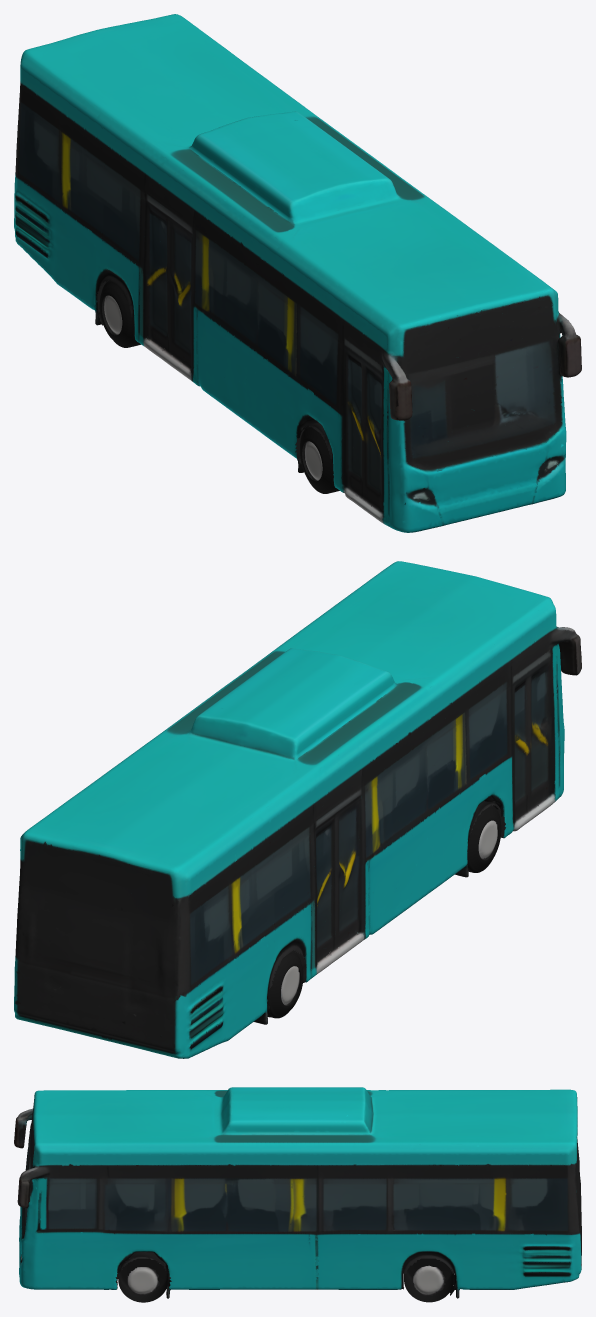
Rendered from Davie_Bus.glb.
The picture shows the model from 3 angles, top to bottom: view 1: azimuth 30°, elevation 25°; view 2: azimuth 150°, elevation 25°; view 3: azimuth 270°, elevation 25°; orthographic projection. The views are drawn at different scales.
Visible parts, largest first — view 1: world, Wheel_PR, Wheel_NR; view 2: world, Wheel_NR, Wheel_PR; view 3: world, Wheel_NL, Wheel_PL.
Part boxes in pixels (x1,y1,x2,y2): world: [14, 14, 581, 532]; Wheel_PR: [99, 280, 140, 347]; Wheel_NR: [300, 426, 339, 493]; world: [14, 561, 581, 1058]; Wheel_NR: [467, 805, 501, 872]; Wheel_PR: [268, 951, 303, 1018]; world: [14, 1087, 581, 1298]; Wheel_NL: [118, 1258, 168, 1302]; Wheel_PL: [404, 1258, 454, 1302].
Size of the model in its own units: 0.2776 by 0.3357 by 1.
Materials: 1 (1 with a texture image).
